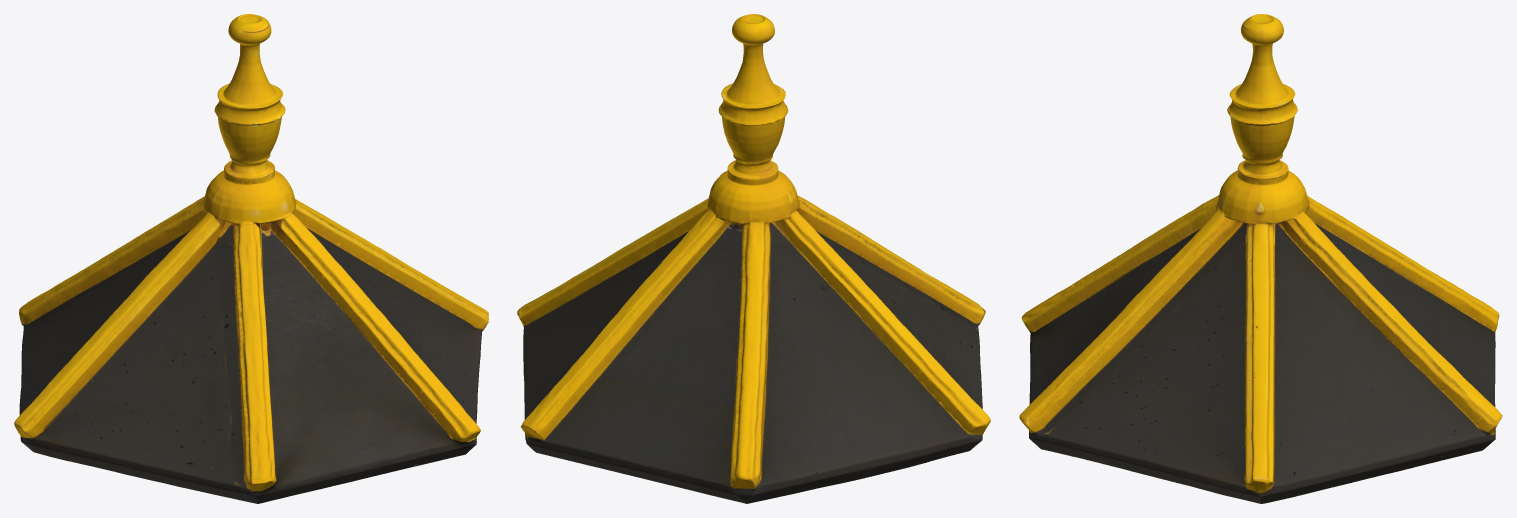
Rendered from Lantern_Top_Ornament_0730150511_texture.fbx.
The picture shows the model from 3 angles, left to right: view 1: azimuth 30°, elevation 25°; view 2: azimuth 150°, elevation 25°; view 3: azimuth 270°, elevation 25°; orthographic projection.
Parts seen in each view (by area): view 1: input; view 2: input; view 3: input.
Boxes of the visible parts, x1=… form: input: x1=14, y1=14, x2=488, y2=503; input: x1=517, y1=14, x2=990, y2=503; input: x1=1019, y1=14, x2=1502, y2=503.
Bounding box in the file's own units: 200 × 160 × 178.
1 material, 1 textured.
